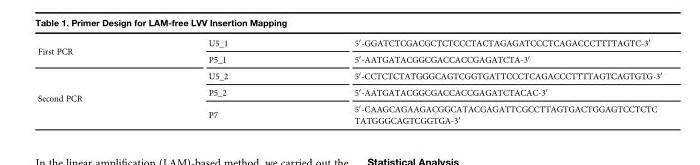table: (37, 37, 661, 125)
table column: (290, 37, 661, 125), (144, 37, 290, 125), (37, 37, 144, 125)
table row: (37, 100, 661, 125), (37, 50, 661, 67), (37, 83, 661, 100), (37, 67, 661, 83), (37, 37, 661, 50)
table spanning cell: (37, 67, 144, 125), (37, 37, 144, 67)
